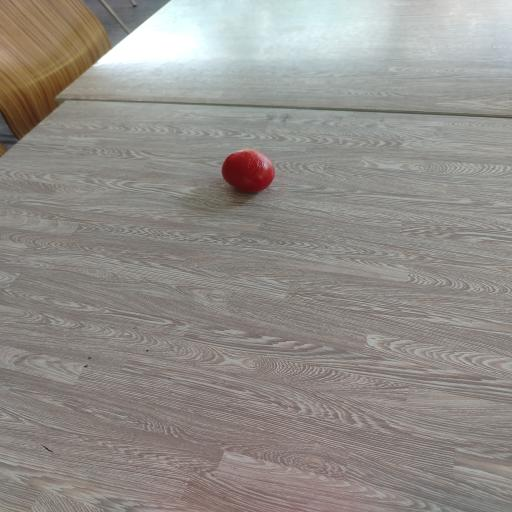spoiled: (222, 149, 274, 192)
